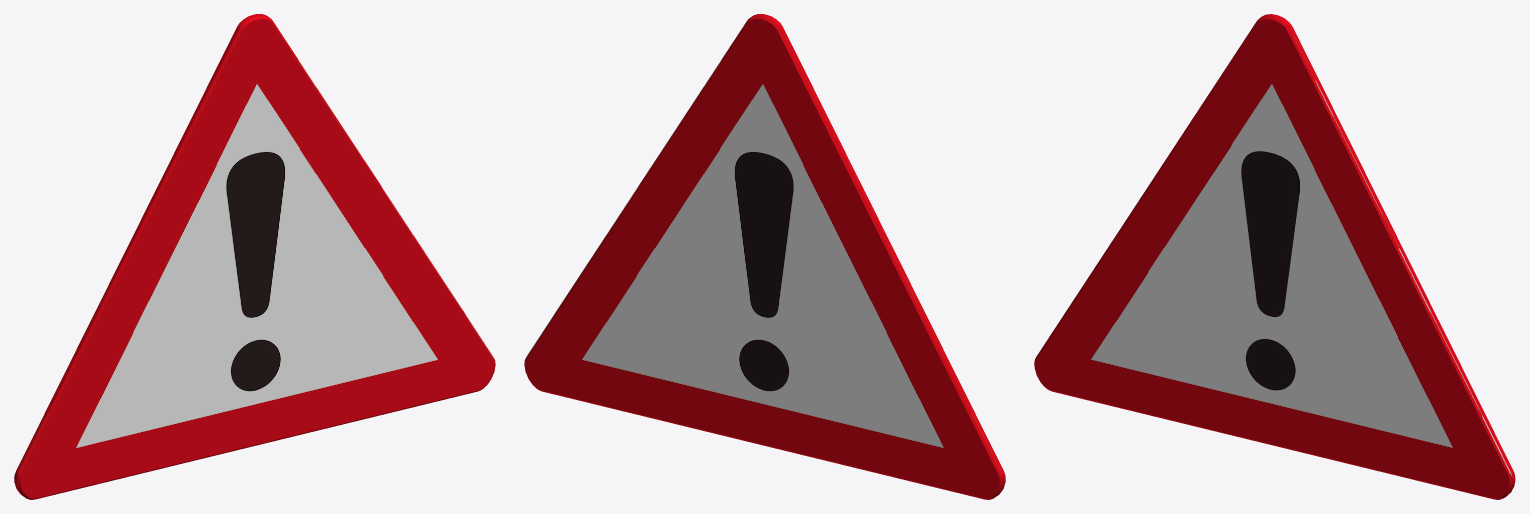
Rendered from Warning Sign.fbx.
The picture shows the model from 3 angles, left to right: view 1: azimuth 30°, elevation 25°; view 2: azimuth 150°, elevation 25°; view 3: azimuth 330°, elevation 25°; orthographic projection.
Visible parts, largest first — view 1: Sign; view 2: Sign; view 3: Sign.
Boxes of the visible parts, x1,y1,x2,y2 form: Sign: (14,14,495,499); Sign: (524,14,1005,499); Sign: (1034,14,1515,499).
Size of the model in its own units: 69.77 by 59.78 by 1.28.
1 material, 1 textured.
